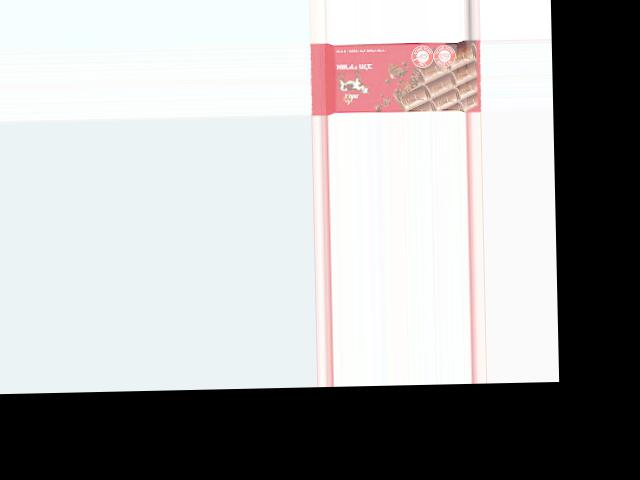chocolate: (312, 39, 481, 115)
